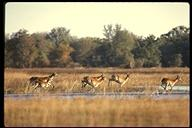antelope: (27, 71, 59, 92), (81, 75, 108, 92), (106, 72, 132, 89), (158, 75, 182, 91)
grass: (7, 99, 187, 125)
sky: (7, 3, 187, 22)
tree: (100, 24, 128, 48), (45, 24, 71, 49)
